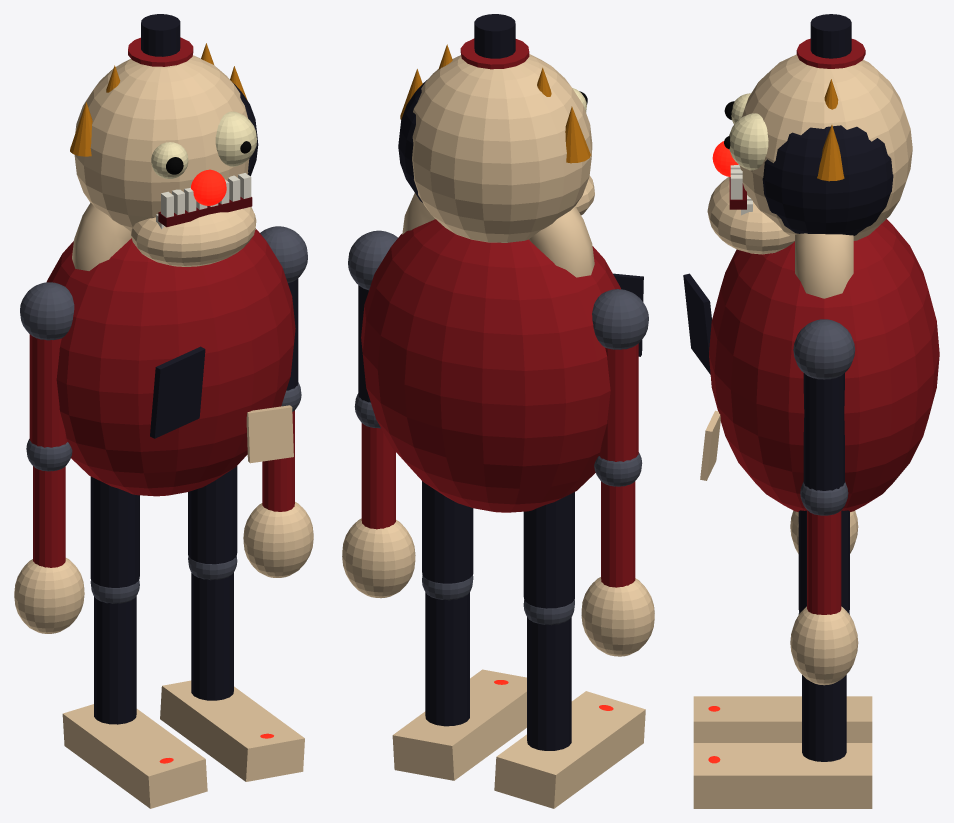
The model's file is bolt.glb.
3 renders of one model, left to right at view 1: azimuth 30°, elevation 25°; view 2: azimuth 150°, elevation 25°; view 3: azimuth 270°, elevation 25°, orthographic. The views are drawn at different scales.
Visible parts, largest first — view 1: Bolt_Torso, Bolt_Skull, Bolt_Shoe-1, Bolt_Shoe1, Bolt_Shin-1, Bolt_Shin1, Bolt_JawMass, Bolt_Thigh-1, Bolt_Glove1, Bolt_Glove-1, Bolt_Thigh1, Bolt_Patch (+18 smaller); view 2: Bolt_Torso, Bolt_Skull, Bolt_Shoe-1, Bolt_Shoe1, Bolt_Shin1, Bolt_Shin-1, Bolt_Thigh-1, Bolt_Glove-1, Bolt_Glove1, Bolt_Thigh1, Bolt_UpperArm-1, Bolt_ForeArm-1 (+13 smaller); view 3: Bolt_Torso, Bolt_Skull, Bolt_Shoe1, Bolt_FacePlate, Bolt_Shoe-1, Bolt_UpperArm1, Bolt_Glove1, Bolt_Shin1, Bolt_ForeArm1, Bolt_Ruff, Bolt_JawMass, Bolt_ShBall1 (+10 smaller).
Boxes of the visible parts, x1,y1,x2,y2 form: Bolt_Torso: [46, 229, 295, 496]; Bolt_Skull: [74, 55, 249, 231]; Bolt_Shoe-1: [62, 704, 207, 808]; Bolt_Shoe1: [160, 680, 304, 781]; Bolt_Shin-1: [94, 596, 136, 724]; Bolt_Shin1: [191, 572, 233, 700]; Bolt_JawMass: [131, 207, 256, 266]; Bolt_Thigh-1: [90, 476, 139, 587]; Bolt_Glove1: [243, 502, 313, 577]; Bolt_Glove-1: [14, 558, 84, 633]; Bolt_Thigh1: [188, 466, 237, 564]; Bolt_Patch: [150, 346, 205, 438]; Bolt_Torso: [361, 219, 620, 512]; Bolt_Skull: [412, 54, 592, 242]; Bolt_Shoe-1: [494, 691, 645, 808]; Bolt_Shoe1: [392, 669, 526, 780]; Bolt_Shin1: [425, 592, 469, 726]; Bolt_Shin-1: [527, 617, 571, 750]; Bolt_Thigh-1: [523, 492, 574, 608]; Bolt_Glove-1: [581, 577, 654, 656]; Bolt_Glove1: [342, 518, 415, 598]; Bolt_Thigh1: [422, 481, 473, 583]; Bolt_UpperArm-1: [599, 343, 638, 461]; Bolt_ForeArm-1: [601, 481, 635, 587]; Bolt_Torso: [709, 219, 939, 511]; Bolt_Skull: [739, 54, 912, 240]; Bolt_Shoe1: [693, 743, 872, 808]; Bolt_FacePlate: [762, 125, 893, 235]; Bolt_Shoe-1: [693, 696, 872, 742]; Bolt_UpperArm1: [803, 373, 844, 490]; Bolt_Glove1: [790, 606, 858, 685]; Bolt_Shin1: [802, 675, 846, 761]; Bolt_ForeArm1: [807, 510, 841, 614]; Bolt_Ruff: [795, 233, 853, 298]; Bolt_JawMass: [707, 177, 794, 254]; Bolt_ShBall1: [793, 319, 855, 379].
Bounding box in the file's own units: 1.02 × 2.4 × 0.7465.
